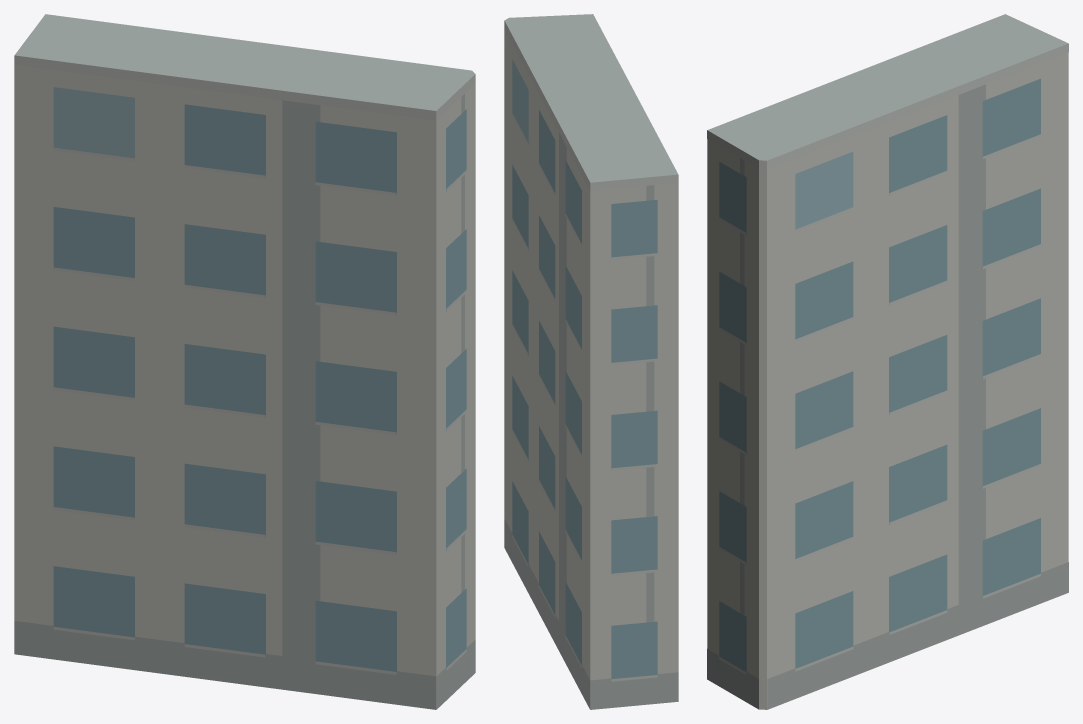
File: survey-upis-32798640.glb
The picture shows the model from 3 angles, left to right: view 1: azimuth 30°, elevation 25°; view 2: azimuth 150°, elevation 25°; view 3: azimuth 270°, elevation 25°; orthographic projection. The views are drawn at different scales.
Visible parts, largest first — view 1: survey-upis-32798640.tmp; view 2: survey-upis-32798640.tmp; view 3: survey-upis-32798640.tmp.
Part boxes in pixels (x1,y1,x2,y2): survey-upis-32798640.tmp: [14, 14, 475, 709]; survey-upis-32798640.tmp: [504, 14, 678, 709]; survey-upis-32798640.tmp: [707, 14, 1068, 709].
Bounding box in the file's own units: 8.74 × 15.25 × 9.11.
